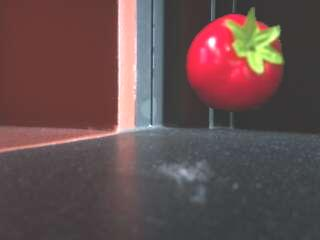Tomato: (186, 9, 285, 114)
